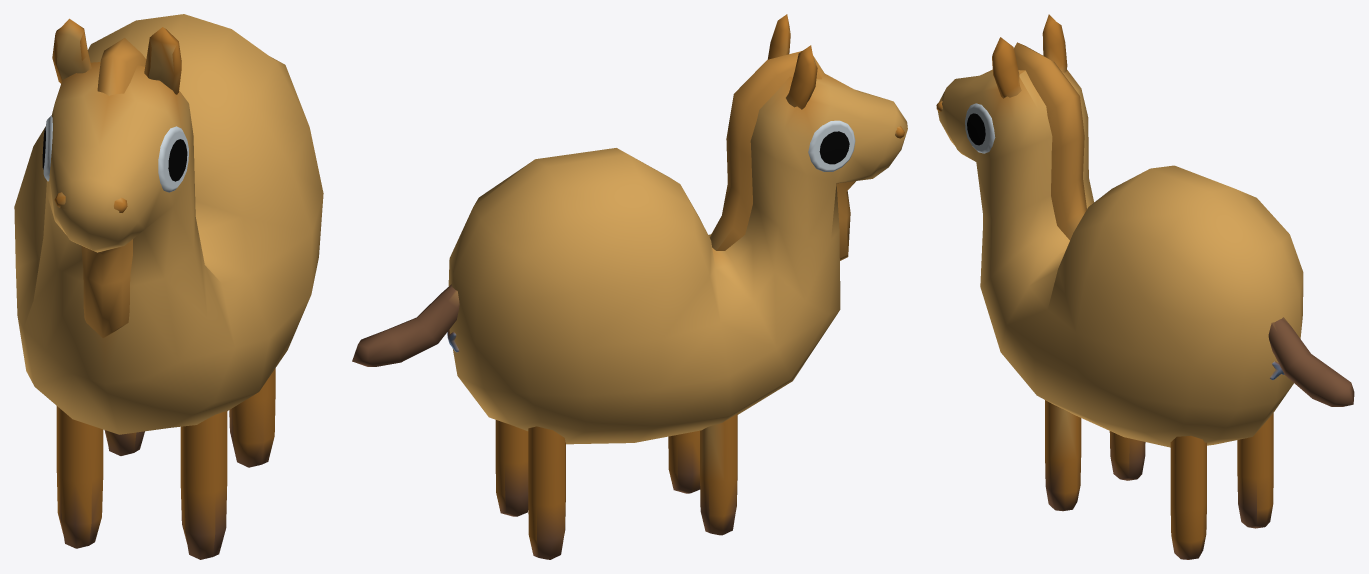
The model's file is Camel.glb.
3 renders of one model, left to right at view 1: azimuth 30°, elevation 25°; view 2: azimuth 150°, elevation 25°; view 3: azimuth 270°, elevation 25°, orthographic. The views are drawn at different scales.
Visible parts, largest first — view 1: 18; view 2: 18; view 3: 18.
Part boxes in pixels (x1=…): 18: x1=14, y1=14, x2=323, y2=559; 18: x1=352, y1=14, x2=907, y2=559; 18: x1=936, y1=14, x2=1354, y2=559.
Bounding box in the file's own units: 1.1 × 1.42 × 1.21.
